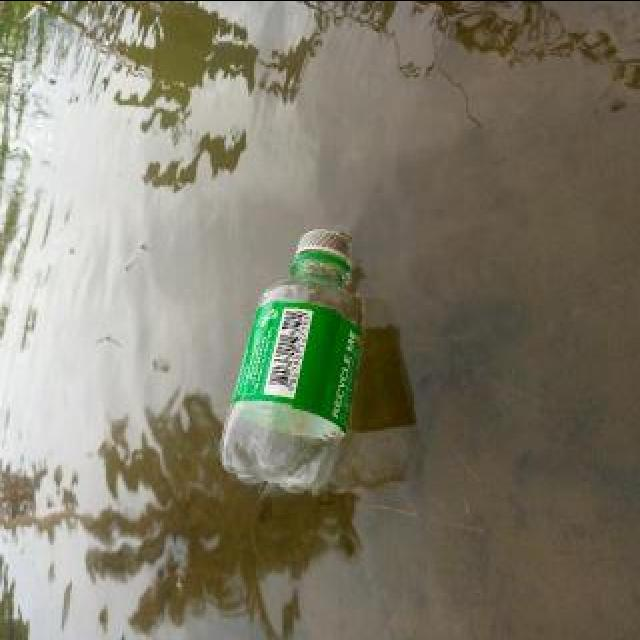Bottle: (216, 218, 374, 502)
